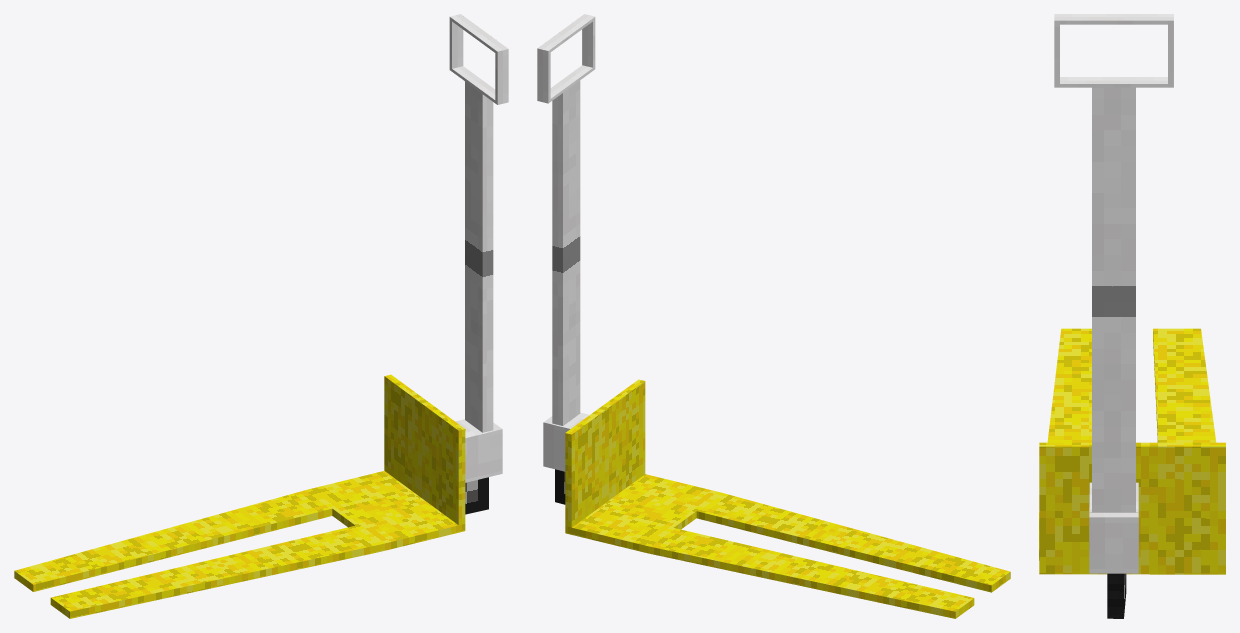
The model's file is PALLET JACK.fbx.
The picture shows the model from 3 angles, left to right: view 1: azimuth 30°, elevation 25°; view 2: azimuth 150°, elevation 25°; view 3: azimuth 270°, elevation 25°; orthographic projection. The views are drawn at different scales.
Parts seen in each view (by area): view 1: Cube__30_; view 2: Cube__30_; view 3: Cube__30_.
Boxes of the visible parts, left/top/right/bottom form: Cube__30_: left=14, top=14, right=508, bottom=618; Cube__30_: left=537, top=14, right=1010, bottom=618; Cube__30_: left=1039, top=14, right=1225, bottom=618.
Bounding box in the file's own units: 117 × 120 × 33.96.
